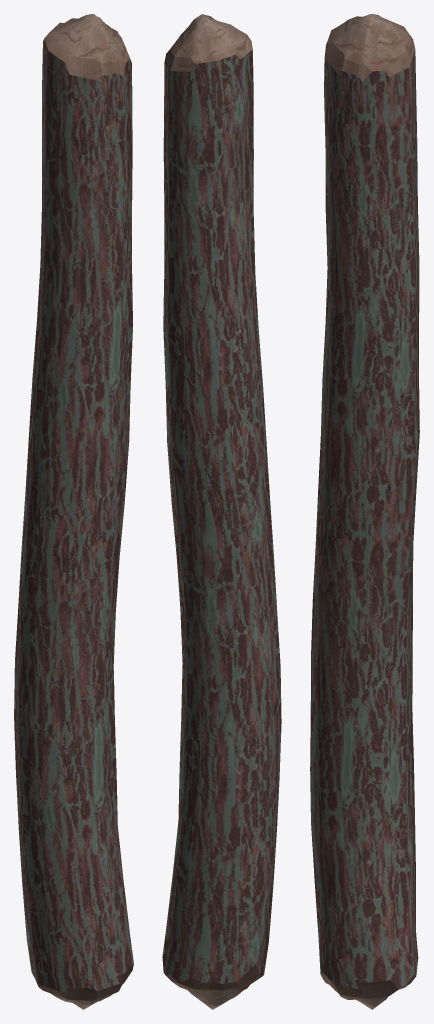
The picture shows the model from 3 angles, left to right: view 1: azimuth 30°, elevation 25°; view 2: azimuth 210°, elevation 25°; view 3: azimuth 330°, elevation 25°; orthographic projection.
Visible parts, largest first — view 1: SM_MapleTree_01_half_top_LOD0; view 2: SM_MapleTree_01_half_top_LOD0; view 3: SM_MapleTree_01_half_top_LOD0.
Boxes of the visible parts, x1,y1,x2,y2 form: SM_MapleTree_01_half_top_LOD0: (14, 14, 133, 1009); SM_MapleTree_01_half_top_LOD0: (162, 14, 281, 1009); SM_MapleTree_01_half_top_LOD0: (310, 14, 419, 1009).
Size of the model in its own units: 0.5447 by 5.11 by 0.5013.
1 material, 1 textured.
